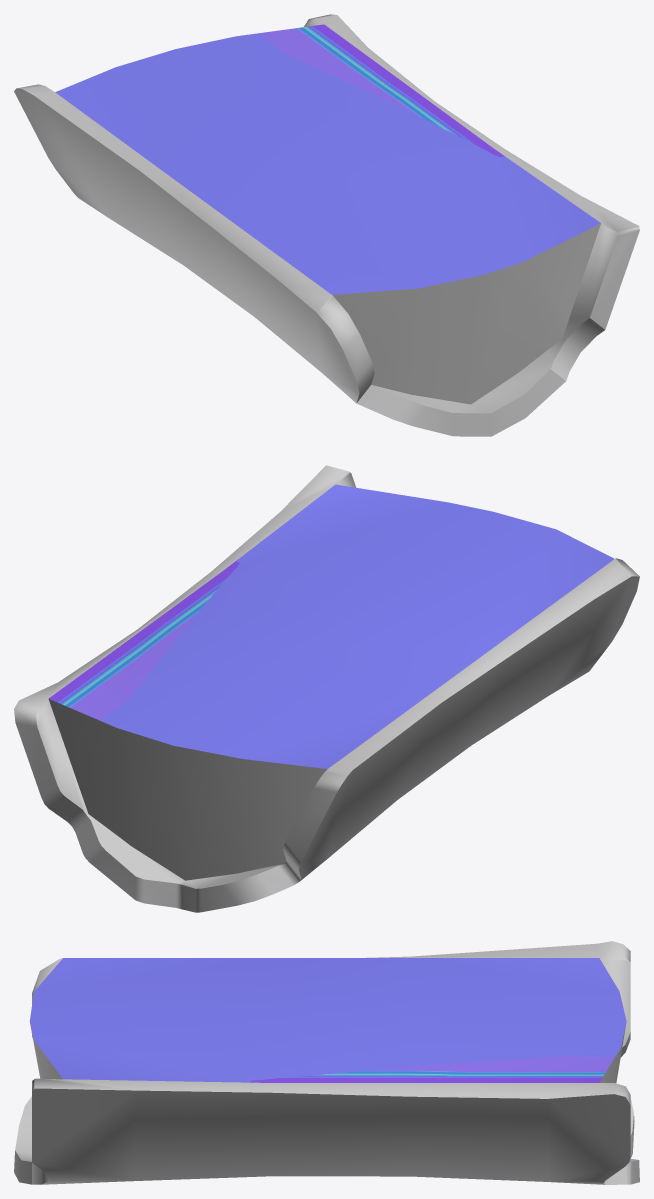
File: sm_lumber_01.fbx
3 views of the same model, one above another, from view 1: azimuth 30°, elevation 25°; view 2: azimuth 150°, elevation 25°; view 3: azimuth 270°, elevation 25° (orthographic). The views are drawn at different scales.
Parts seen in each view (by area): view 1: sm_lumber1; view 2: sm_lumber1; view 3: sm_lumber1.
Boxes of the visible parts, x1=… form: sm_lumber1: x1=14, y1=14, x2=639, y2=436; sm_lumber1: x1=14, y1=465, x2=639, y2=912; sm_lumber1: x1=14, y1=941, x2=639, y2=1184.
Size of the model in its own units: 78.24 by 39.76 by 137.
